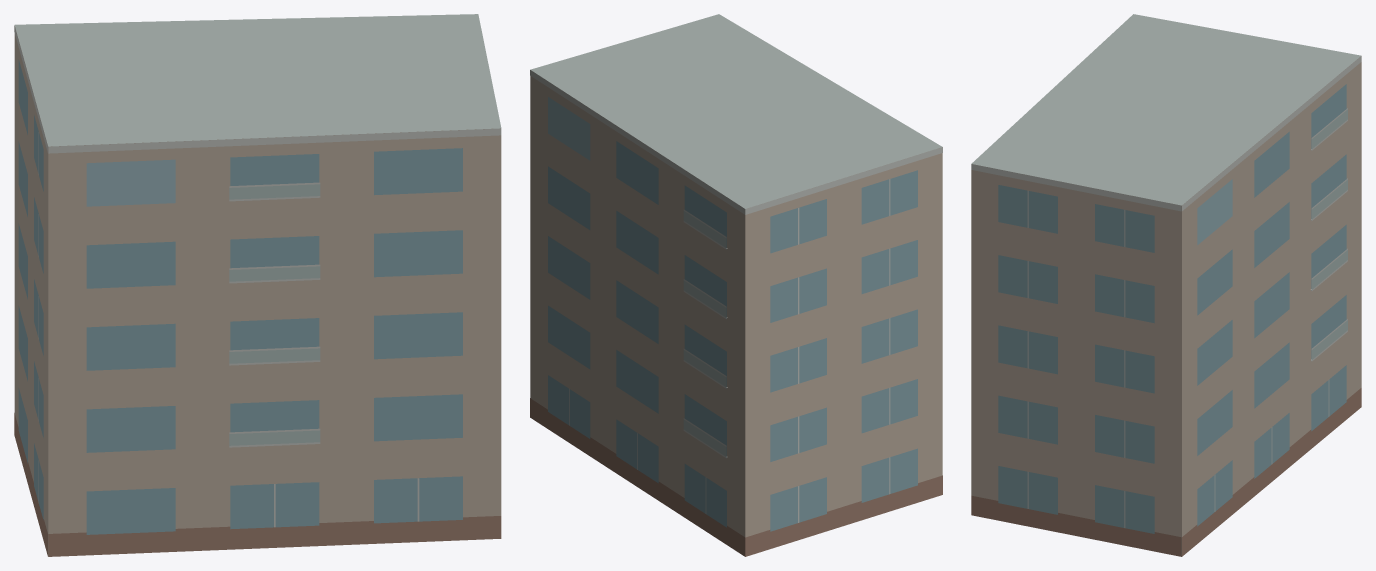
The model's file is survey-upis-32666313.glb.
The picture shows the model from 3 angles, left to right: view 1: azimuth 30°, elevation 25°; view 2: azimuth 150°, elevation 25°; view 3: azimuth 270°, elevation 25°; orthographic projection. The views are drawn at different scales.
Parts seen in each view (by area): view 1: survey-upis-32666313.tmp; view 2: survey-upis-32666313.tmp; view 3: survey-upis-32666313.tmp.
Part boxes in pixels (x1,y1,x2,y2): survey-upis-32666313.tmp: (14, 14, 501, 556); survey-upis-32666313.tmp: (530, 14, 942, 556); survey-upis-32666313.tmp: (971, 14, 1361, 556).
Size of the model in its own units: 16.73 by 14.3 by 14.41.
